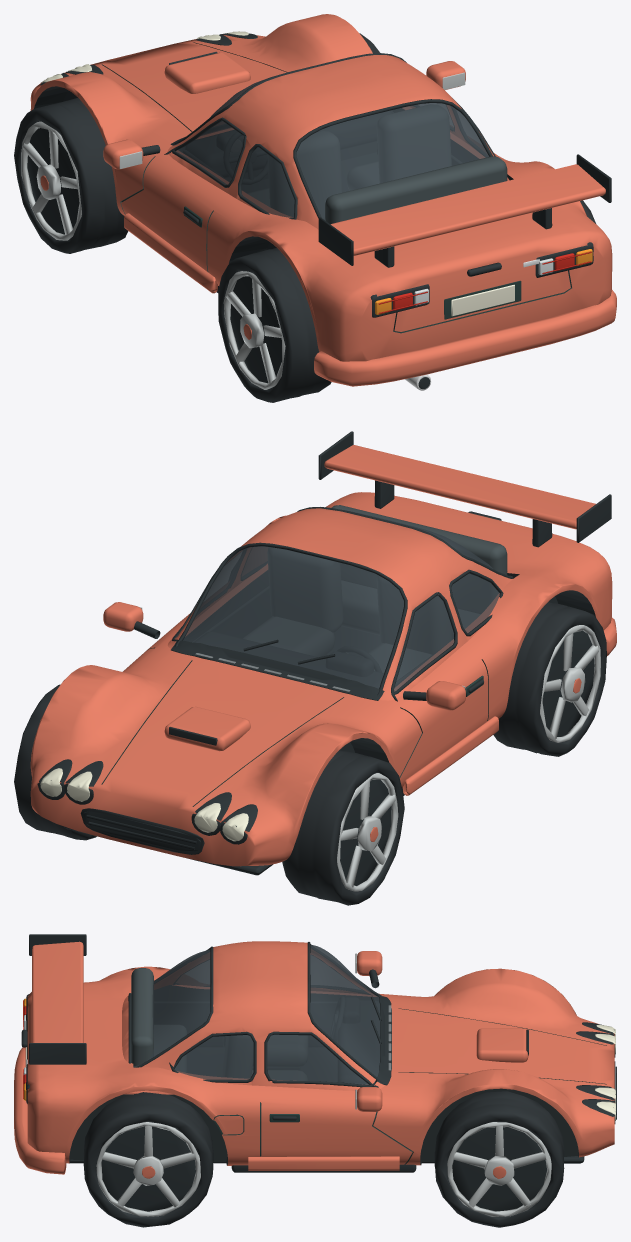
Rendered from taiyo_lod2.fbx.
3 views of the same model, one above another, from view 1: azimuth 30°, elevation 25°; view 2: azimuth 150°, elevation 25°; view 3: azimuth 270°, elevation 25° (orthographic). The views are drawn at different scales.
Parts seen in each view (by area): view 1: Body, Wheel_FL_Mesh, Wheel_RL_Mesh; view 2: Body, Wheel_FL_Mesh, Wheel_RL_Mesh, Wheel_FR_Mesh; view 3: Body, Wheel_FR_Mesh, Wheel_RR_Mesh.
Boxes of the visible parts, box(x1,y1,x2,y2) form: Body: box(30, 14, 616, 390); Wheel_FL_Mesh: box(14, 98, 128, 253); Wheel_RL_Mesh: box(218, 248, 331, 402); Body: box(30, 431, 616, 875); Wheel_FL_Mesh: box(282, 749, 404, 905); Wheel_RL_Mesh: box(493, 602, 606, 756); Wheel_FR_Mesh: box(14, 684, 96, 840); Body: box(14, 934, 616, 1174); Wheel_FR_Mesh: box(434, 1091, 564, 1227); Wheel_RR_Mesh: box(83, 1092, 213, 1227).
Size of the model in its own units: 233 by 144 by 399.
